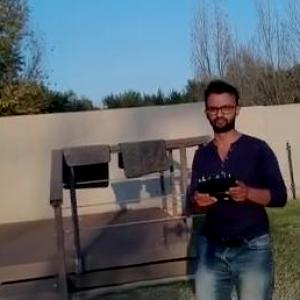follow: (184, 73, 293, 299)
